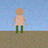person: (12, 8, 27, 33)
